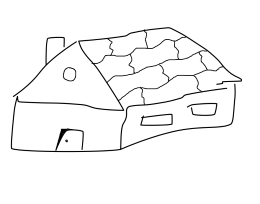chimney: (40, 34, 70, 63)
door: (52, 125, 87, 156)
open_window: (185, 97, 223, 122), (137, 111, 182, 127)
roof: (16, 24, 242, 110)
wall: (122, 78, 239, 163), (4, 96, 131, 158)
